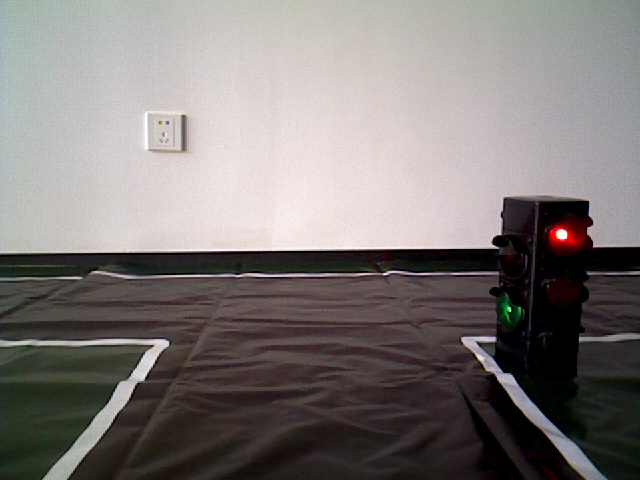red: (496, 196, 586, 377)
